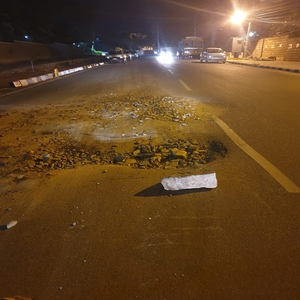pothole: (54, 134, 226, 175)
